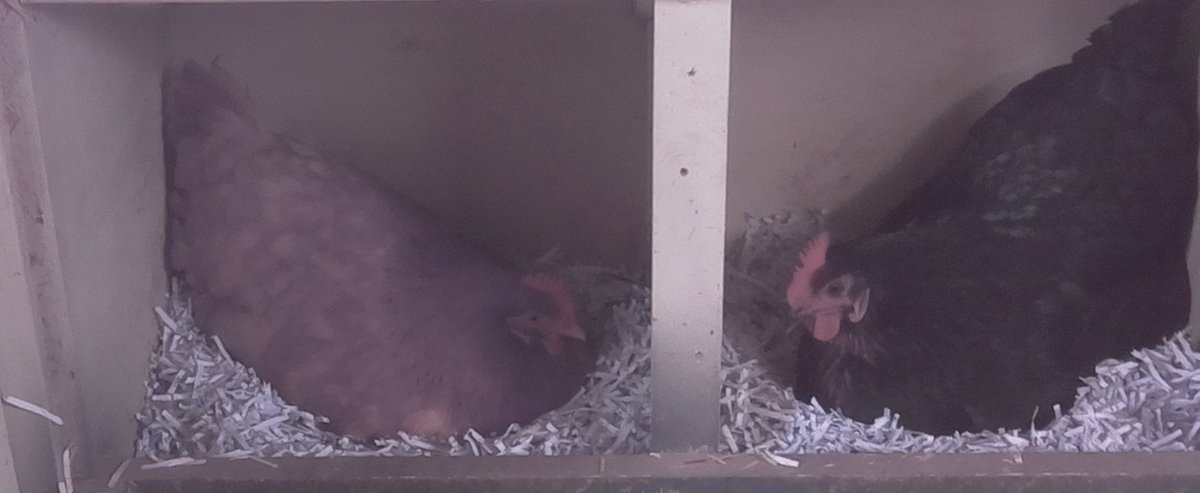hen: (774, 5, 1194, 445), (160, 63, 602, 449)
